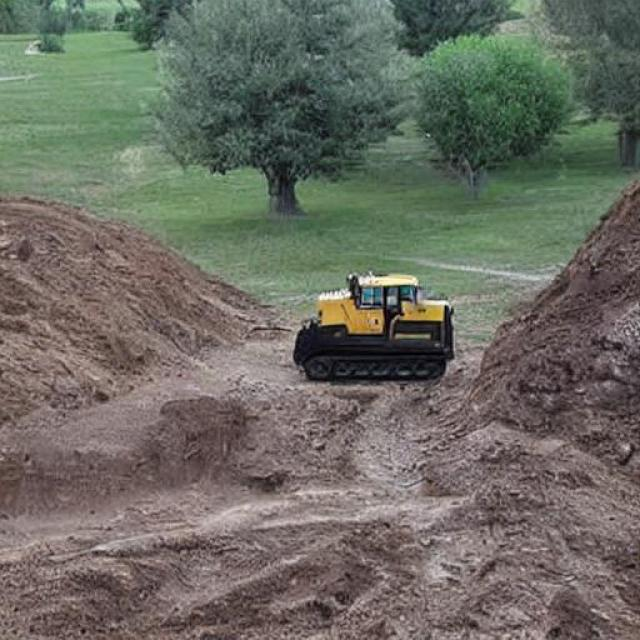machinery: (65, 82, 520, 453)
